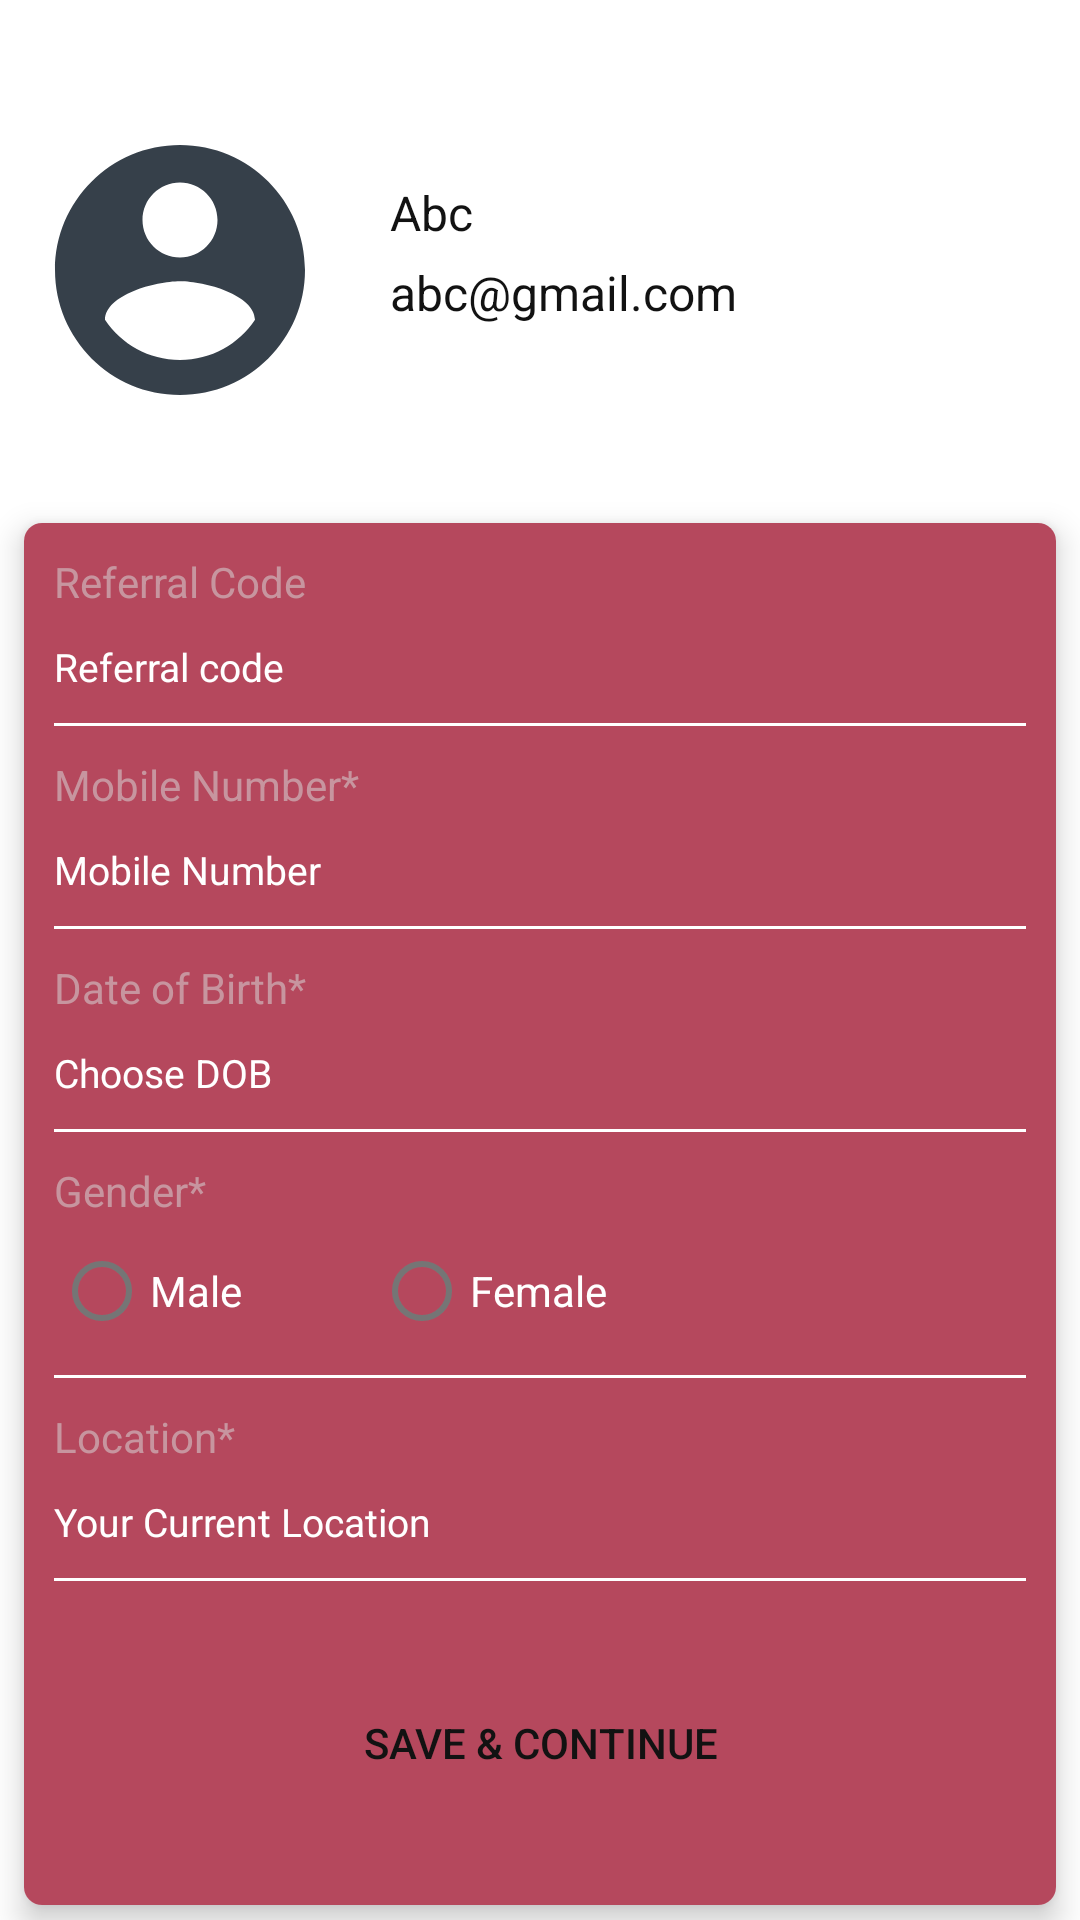

Named icons in this screenshot (1080×1920) and their centers, point (x, y):
account circle: point (180, 270)
